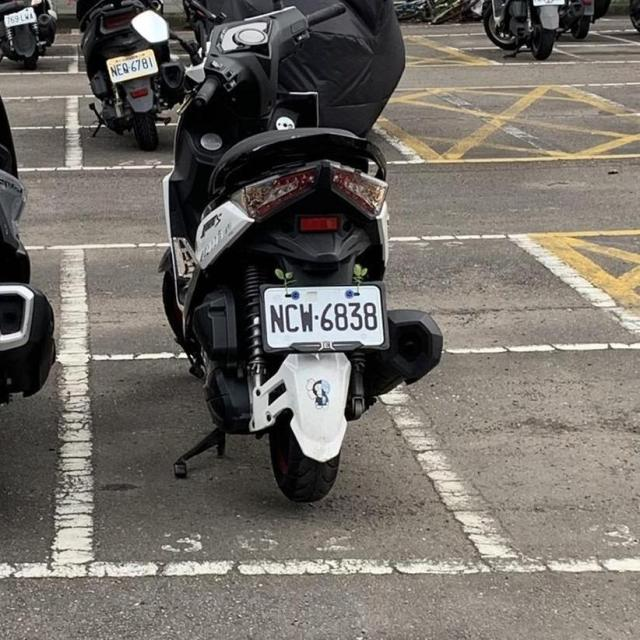W: (257, 280, 396, 356), (106, 48, 160, 83), (3, 6, 40, 29)
